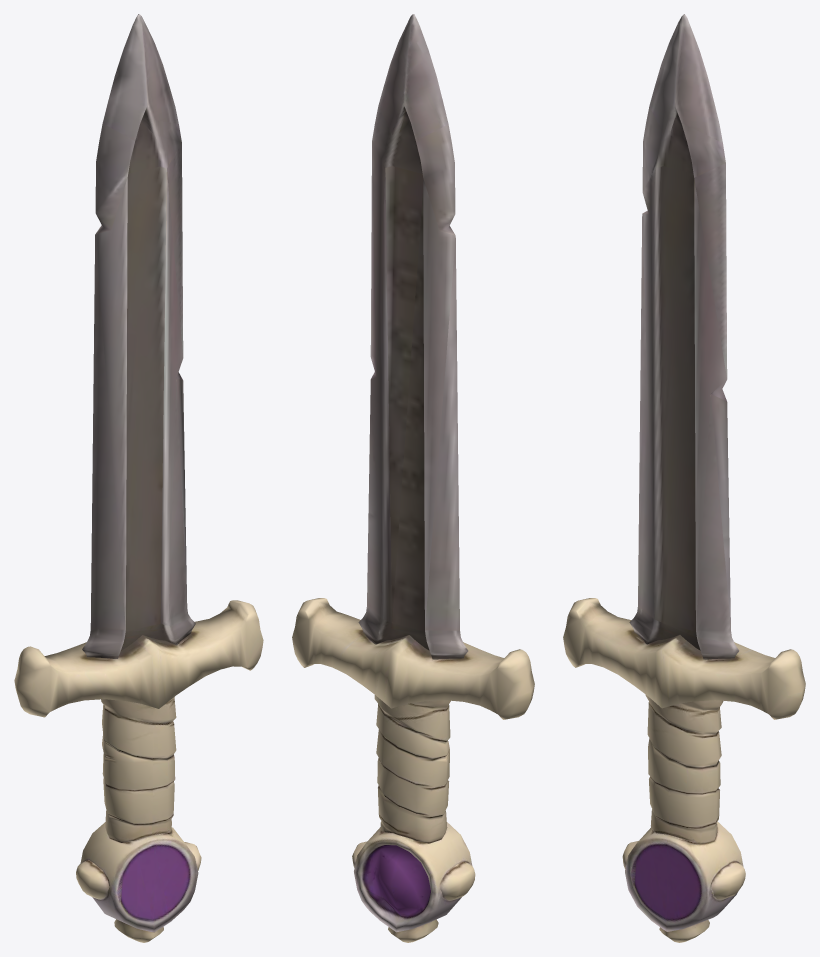
Rendered from sword_epic_ossuary_wyrm_teal.glb.
The picture shows the model from 3 angles, left to right: view 1: azimuth 30°, elevation 25°; view 2: azimuth 150°, elevation 25°; view 3: azimuth 330°, elevation 25°; orthographic projection.
Parts seen in each view (by area): view 1: tripo_node_bc1b488d-5bbe-48bf-a0e8-483eb09e7071; view 2: tripo_node_bc1b488d-5bbe-48bf-a0e8-483eb09e7071; view 3: tripo_node_bc1b488d-5bbe-48bf-a0e8-483eb09e7071.
Part boxes in pixels (x1,y1,x2,y2): tripo_node_bc1b488d-5bbe-48bf-a0e8-483eb09e7071: (14,14,263,942); tripo_node_bc1b488d-5bbe-48bf-a0e8-483eb09e7071: (292,14,534,942); tripo_node_bc1b488d-5bbe-48bf-a0e8-483eb09e7071: (563,14,805,942).
Size of the model in its own units: 0.54 by 2 by 0.167.
1 material, 1 textured.
